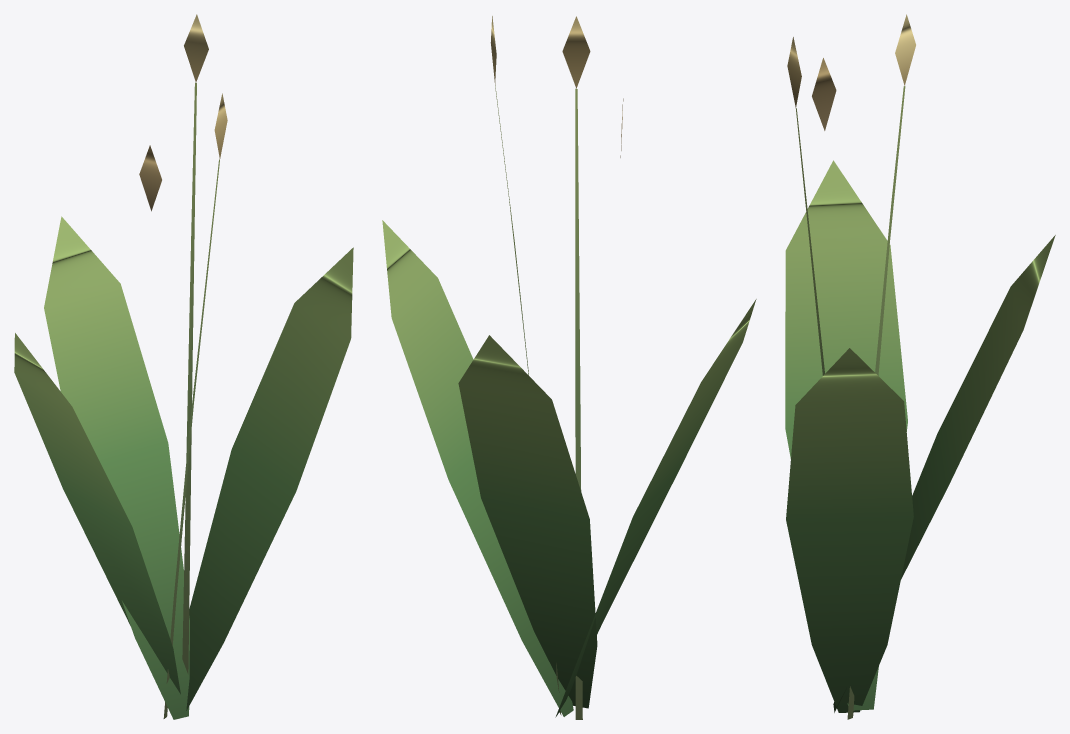
File: PlantainCluster_LOD1.glb
3 renders of one model, left to right at view 1: azimuth 30°, elevation 25°; view 2: azimuth 150°, elevation 25°; view 3: azimuth 270°, elevation 25°, orthographic. The views are drawn at different scales.
Parts seen in each view (by area): view 1: PlantainCluster_LOD1; view 2: PlantainCluster_LOD1; view 3: PlantainCluster_LOD1.
Boxes of the visible parts, x1,y1,x2,y2 form: PlantainCluster_LOD1: (14, 14, 353, 719); PlantainCluster_LOD1: (382, 16, 756, 719); PlantainCluster_LOD1: (785, 14, 1055, 719).
Bounding box in the file's own units: 0.1617 × 0.2998 × 0.1014.
